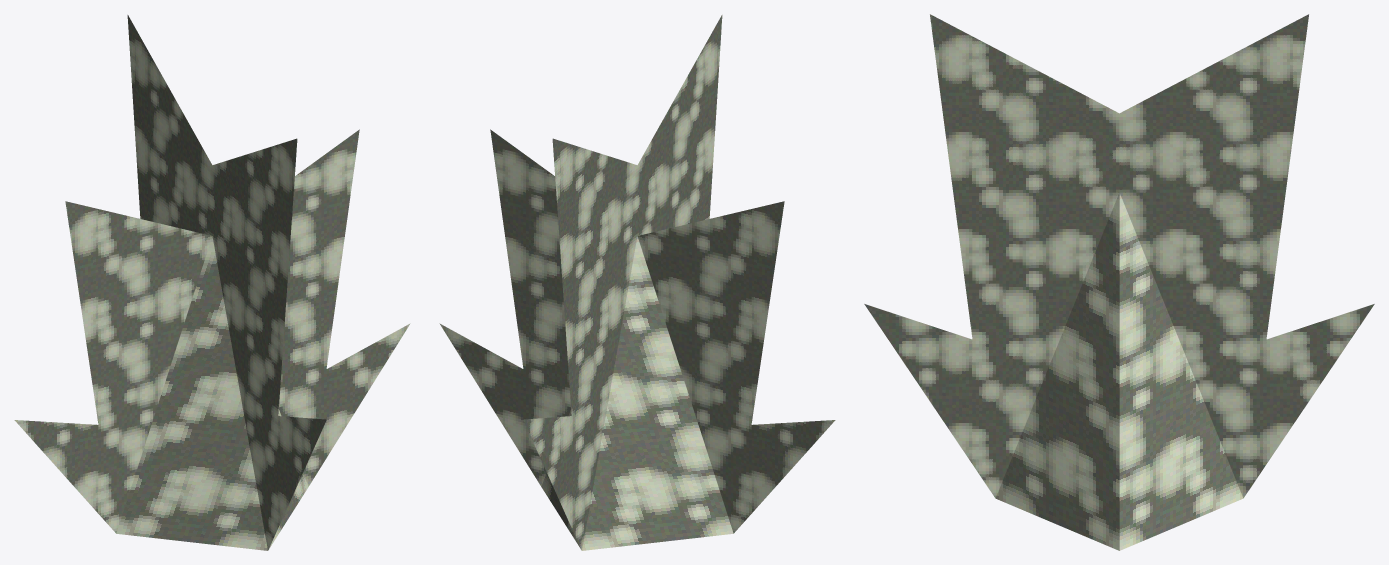
The model's file is totora.glb.
3 renders of one model, left to right at view 1: azimuth 30°, elevation 25°; view 2: azimuth 150°, elevation 25°; view 3: azimuth 270°, elevation 25°, orthographic. The views are drawn at different scales.
Visible parts, largest first — view 1: totora; view 2: totora; view 3: totora.
Part boxes in pixels (bbox=[...]): totora: bbox=[14, 15, 410, 550]; totora: bbox=[439, 15, 835, 550]; totora: bbox=[864, 14, 1374, 550].
Size of the model in its own units: 1.91 by 2 by 1.91.
Materials: 1 (1 with a texture image).
